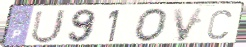1: (107, 8, 121, 43)
9: (68, 8, 99, 45)
C: (205, 8, 233, 41)
O: (133, 7, 171, 43)
U: (29, 9, 69, 45)
V: (172, 7, 207, 43)
